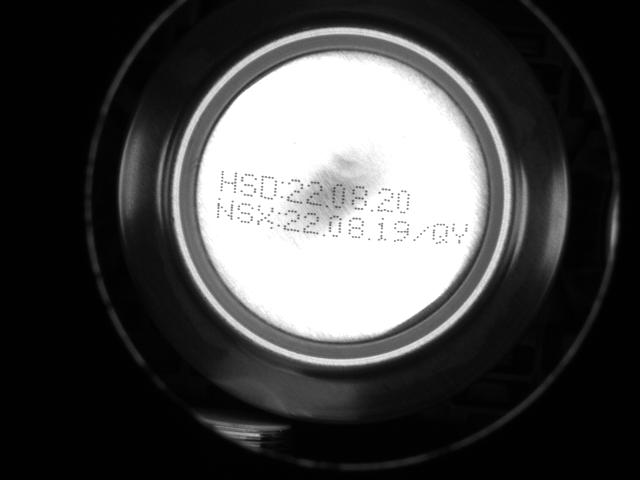.: (324, 195, 330, 209), (321, 224, 327, 238), (369, 200, 375, 214), (366, 227, 372, 241)
/: (410, 222, 430, 247)
0: (331, 183, 346, 210), (328, 212, 343, 239), (395, 188, 410, 215)
1: (376, 216, 389, 243)
2: (285, 176, 304, 204), (303, 178, 322, 206), (282, 207, 301, 235), (301, 209, 320, 237), (375, 186, 394, 214)
8: (350, 184, 368, 211), (347, 213, 365, 240)
9: (392, 219, 410, 246)
:: (278, 178, 285, 202), (275, 206, 282, 230)
D: (259, 173, 278, 201)
H: (217, 169, 238, 195)
N: (215, 196, 235, 223)
Q: (430, 220, 451, 249)
S: (239, 171, 258, 198), (235, 198, 254, 225)
X: (255, 201, 275, 231)
Y: (451, 219, 471, 248)
